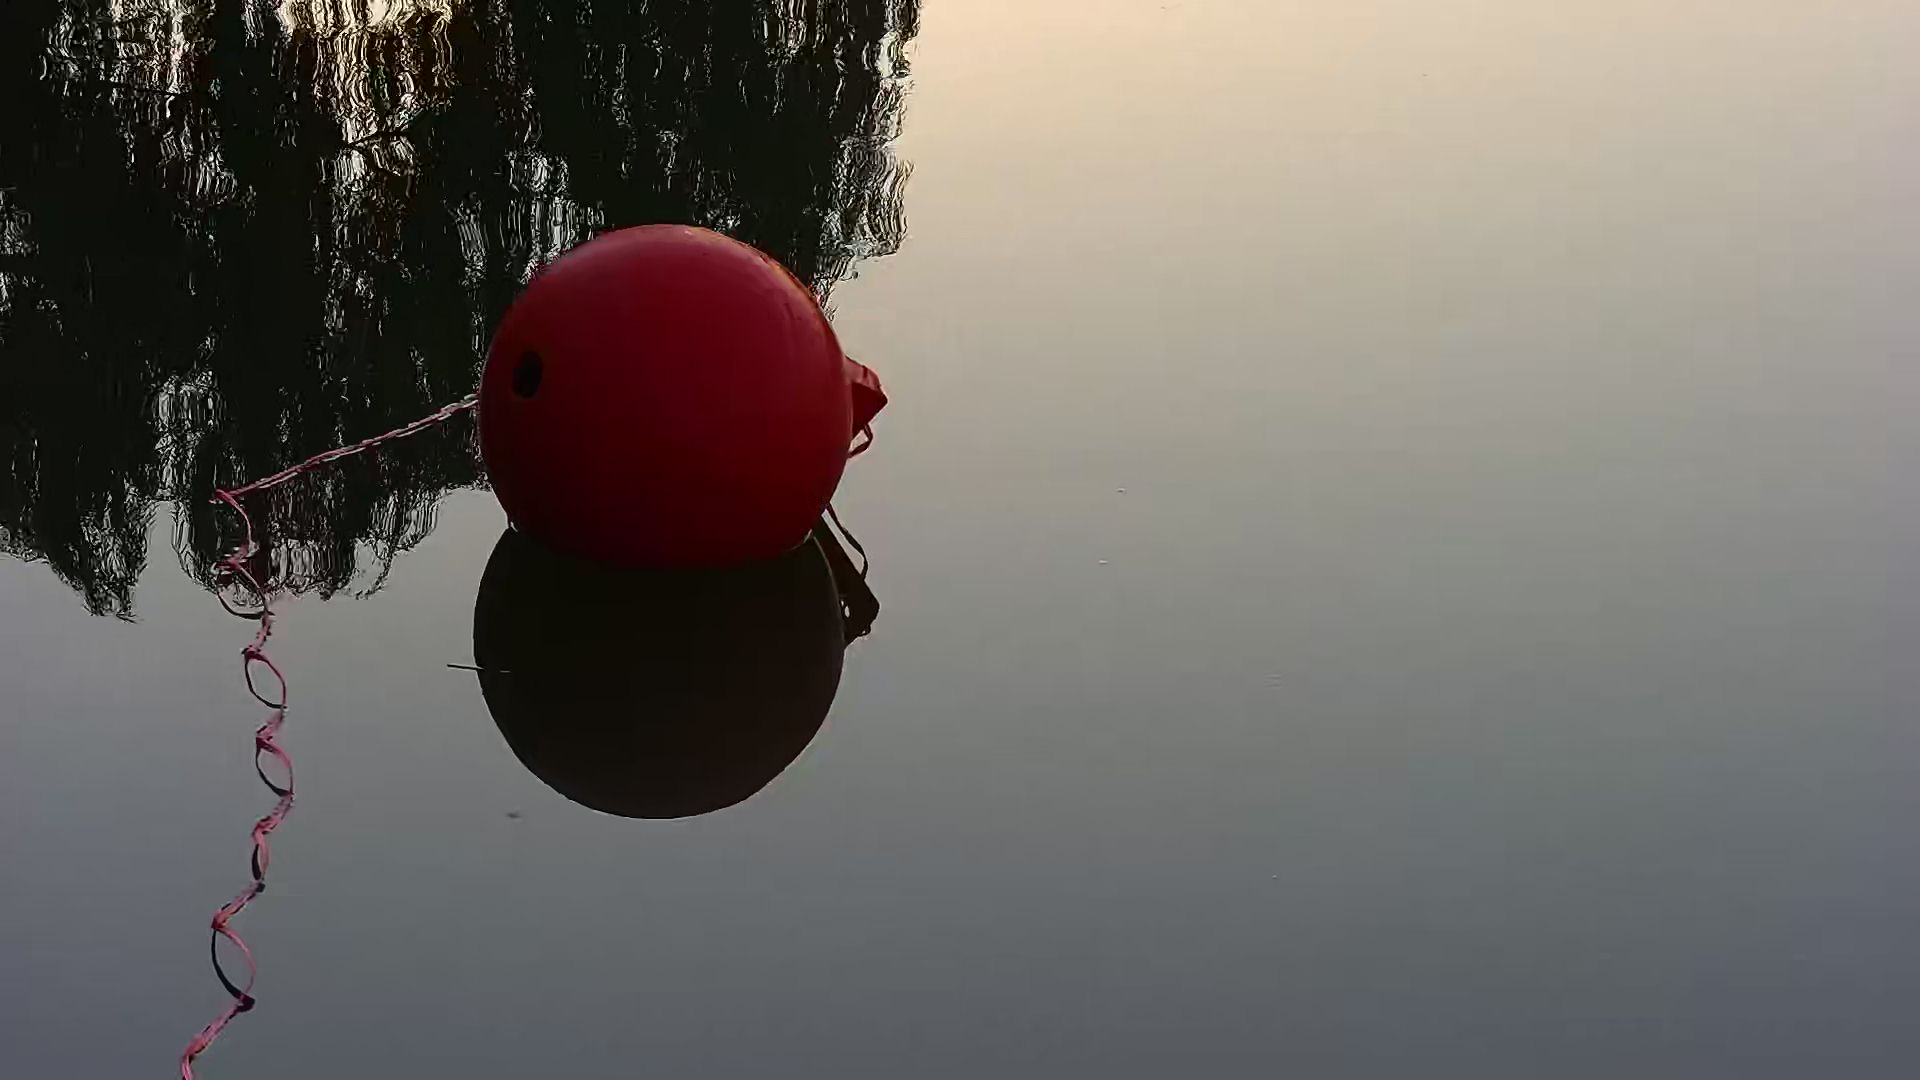rubbish: (471, 222, 877, 596)
